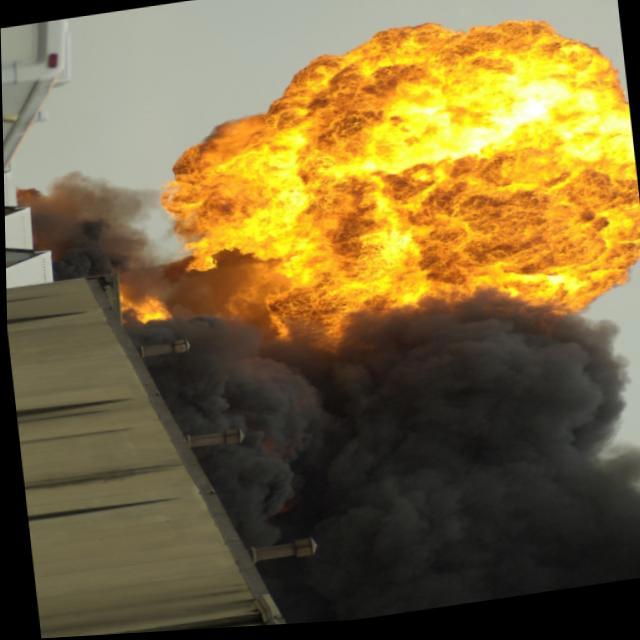fire: (46, 1, 640, 386)
